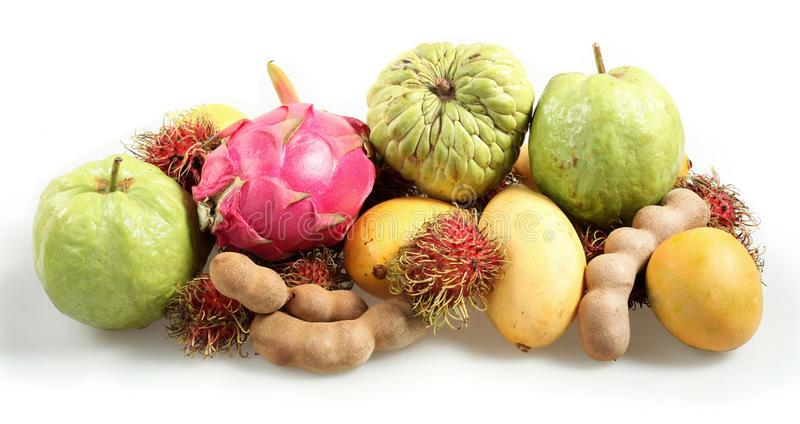chom_chom: (396, 208, 502, 317)
oi: (31, 151, 191, 350), (530, 66, 683, 215)
thanh_long: (207, 104, 372, 253)
